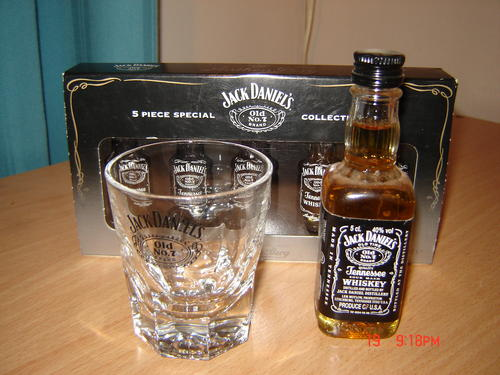Jack Daniel: (304, 40, 424, 348)
